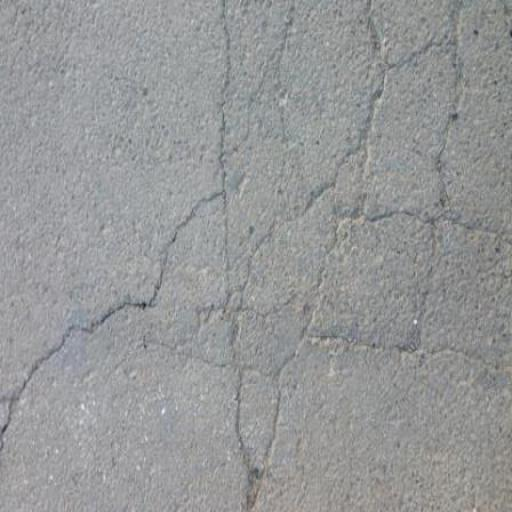spalling: (153, 7, 408, 383), (7, 173, 238, 454), (391, 8, 481, 387), (209, 15, 267, 500), (316, 319, 512, 388), (259, 0, 317, 204), (363, 201, 511, 257), (364, 27, 462, 102)
